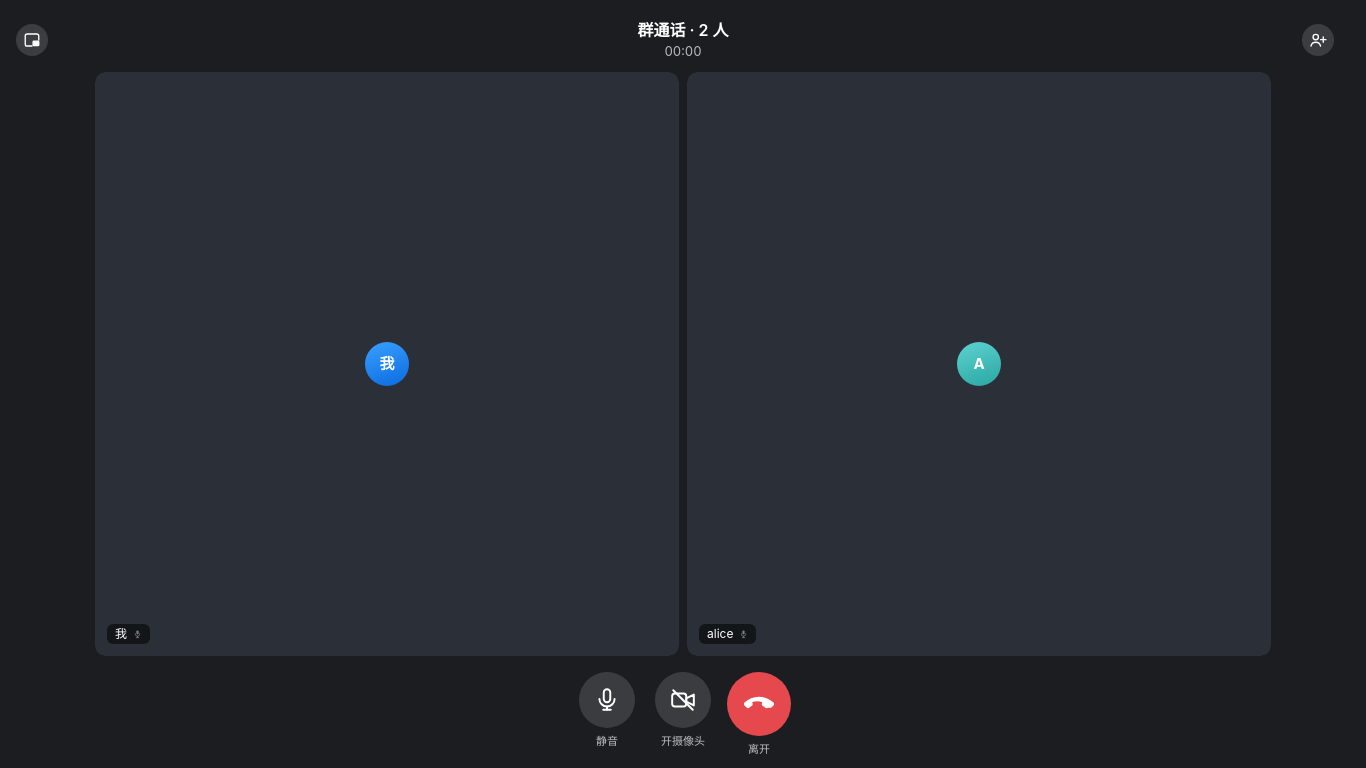
Test: 九宫格加人 › 发起人还在通话里：照样列出，和别人一样置灰「已在通话中」
Click the button with test id "invite-button".
click(1318, 40)  # box top-left (1302, 24), bottom-right (1334, 56)
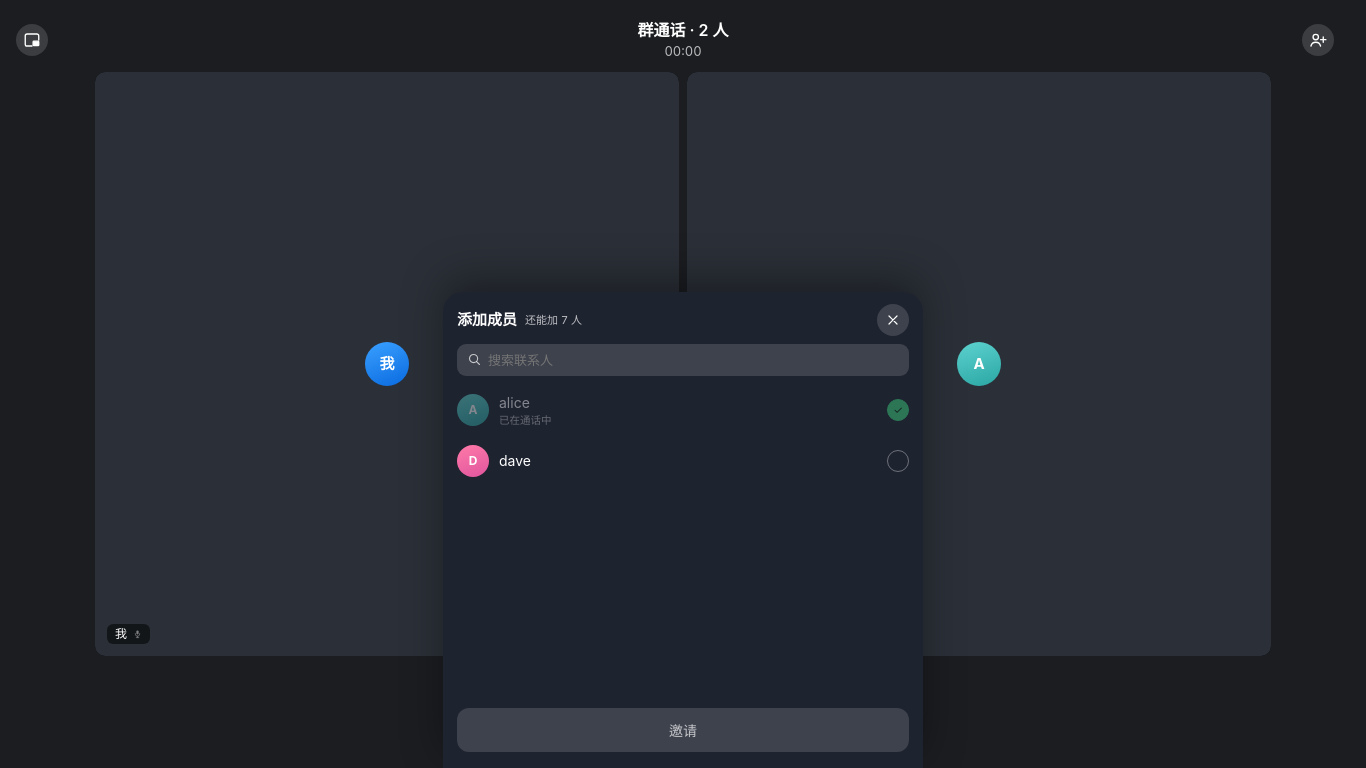
Check: the button with test id "invite-row-alice" shows "已在通话中", box top-left (443, 384), bottom-right (923, 437)
